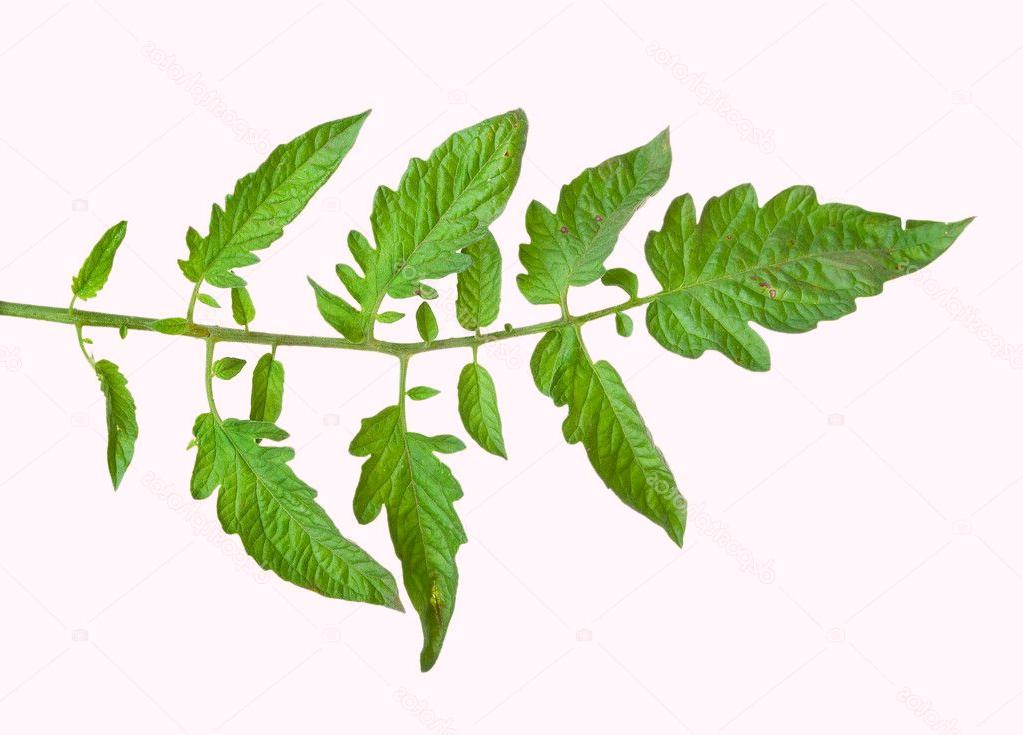Tomato leaf: (635, 177, 982, 378), (317, 100, 544, 339), (191, 395, 399, 616), (177, 103, 377, 315), (549, 335, 705, 548), (507, 137, 682, 322), (361, 396, 461, 685)
